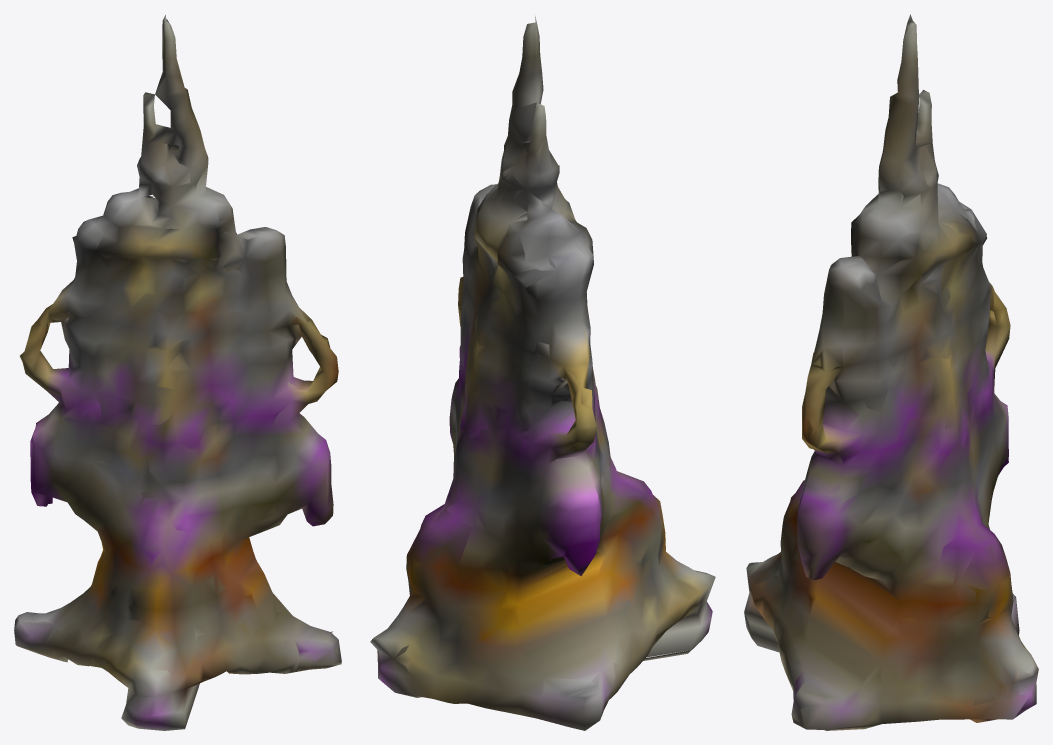
The model's file is yuri_psychic_tower.glb.
3 renders of one model, left to right at view 1: azimuth 30°, elevation 25°; view 2: azimuth 150°, elevation 25°; view 3: azimuth 270°, elevation 25°, orthographic.
Parts seen in each view (by area): view 1: yuri_psychic_tower; view 2: yuri_psychic_tower; view 3: yuri_psychic_tower.
Part boxes in pixels (<box>): yuri_psychic_tower: <box>14,14,341,730</box>; yuri_psychic_tower: <box>370,16,715,730</box>; yuri_psychic_tower: <box>744,14,1038,730</box>.
Size of the model in its own units: 0.6159 by 1.62 by 0.6551.
